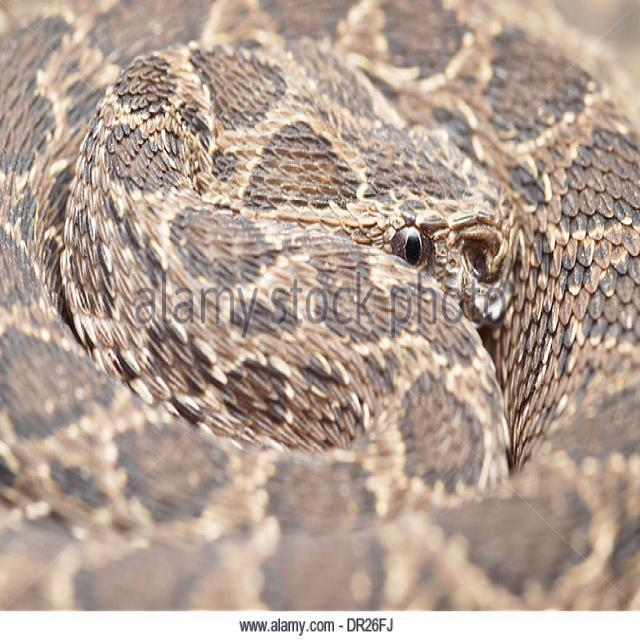Snake: (5, 9, 640, 602)
